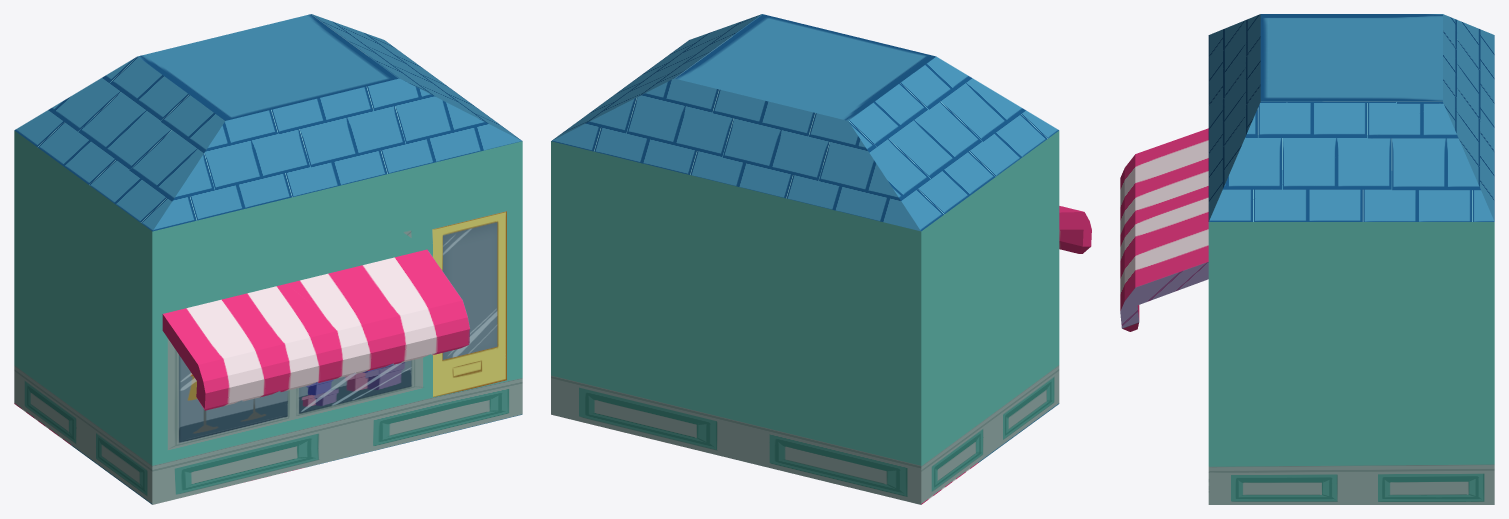
Rendered from Shop.FBX.
3 renders of one model, left to right at view 1: azimuth 30°, elevation 25°; view 2: azimuth 150°, elevation 25°; view 3: azimuth 270°, elevation 25°, orthographic. The views are drawn at different scales.
Parts seen in each view (by area): view 1: Shop; view 2: Shop; view 3: Shop.
Boxes of the visible parts, bbox=[...] form: Shop: bbox=[14, 14, 522, 504]; Shop: bbox=[551, 14, 1091, 504]; Shop: bbox=[1120, 14, 1494, 504].
Size of the model in its own units: 101 by 88.7 by 85.15.
1 material, 1 textured.
